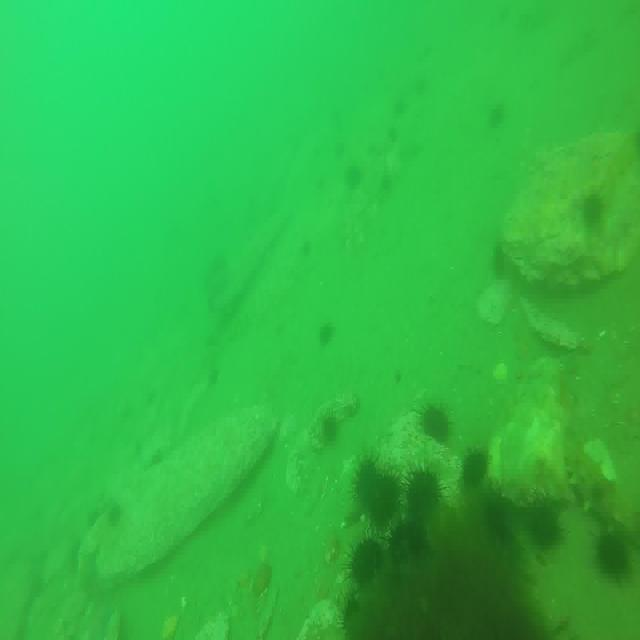echinus: (348, 536, 386, 590), (524, 497, 564, 548), (369, 470, 404, 528), (480, 485, 513, 545), (596, 533, 630, 583), (390, 518, 428, 561), (406, 472, 443, 514), (422, 399, 453, 447), (352, 456, 379, 510), (462, 449, 494, 490), (583, 198, 607, 232), (488, 104, 508, 136), (105, 499, 125, 528), (320, 414, 339, 443), (346, 162, 366, 186), (411, 74, 429, 100), (320, 318, 337, 343), (391, 100, 411, 116), (386, 124, 400, 146)
